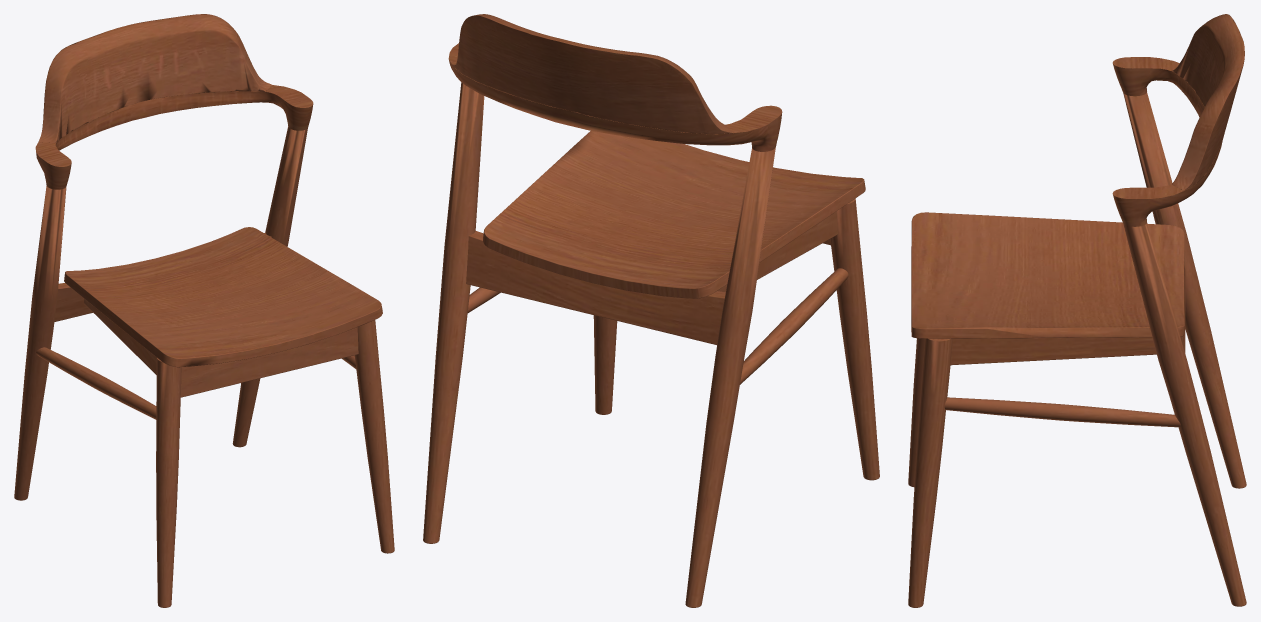
File: B075YMXWZM.glb
3 views of the same model, side by side, from view 1: azimuth 30°, elevation 25°; view 2: azimuth 150°, elevation 25°; view 3: azimuth 270°, elevation 25° (orthographic). The views are drawn at different scales.
Visible parts, largest first — view 1: RootNode; view 2: RootNode; view 3: RootNode.
Boxes of the visible parts, box(x1,y1,x2,y2) form: RootNode: box(14, 14, 394, 607); RootNode: box(423, 14, 879, 607); RootNode: box(908, 14, 1246, 607).
Size of the model in its own units: 0.4956 by 0.8008 by 0.4993.
1 material, 1 textured.
